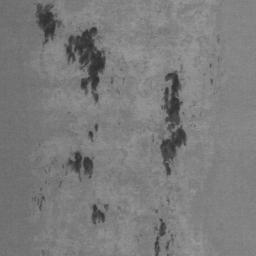Iron scale compression: (65, 28, 106, 104), (160, 74, 185, 177), (34, 4, 62, 49), (67, 152, 94, 179), (153, 219, 167, 254), (93, 203, 109, 224), (88, 123, 99, 141), (31, 196, 46, 209)
